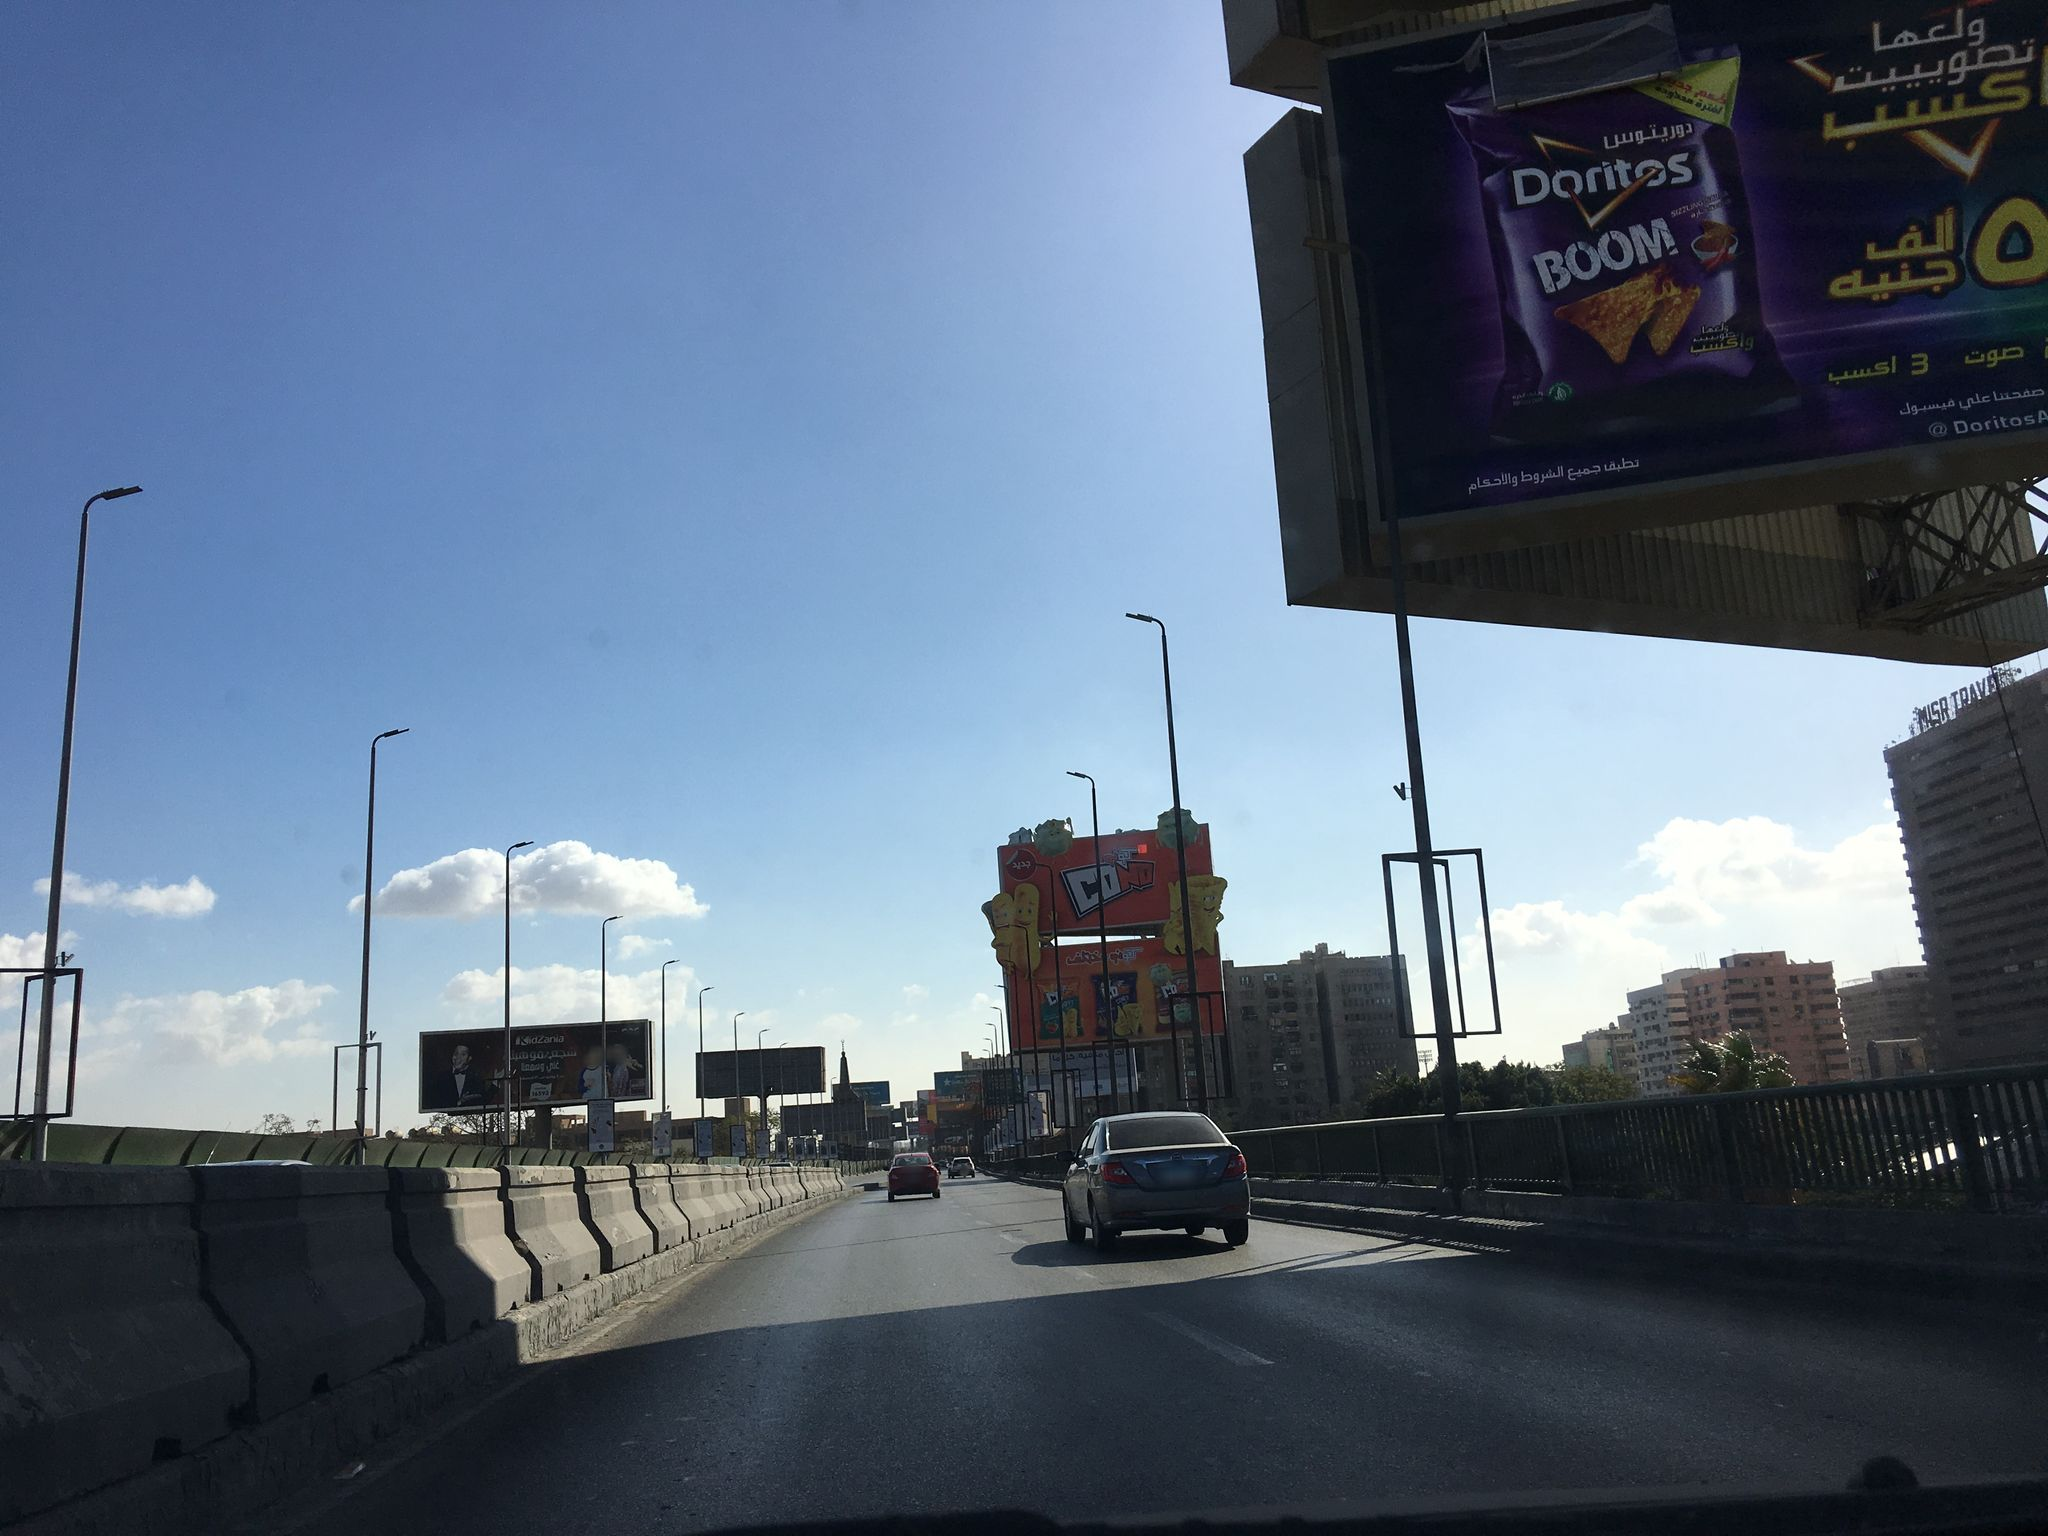car: (1055, 1112, 1253, 1247), (885, 1150, 940, 1199), (947, 1155, 976, 1179)
